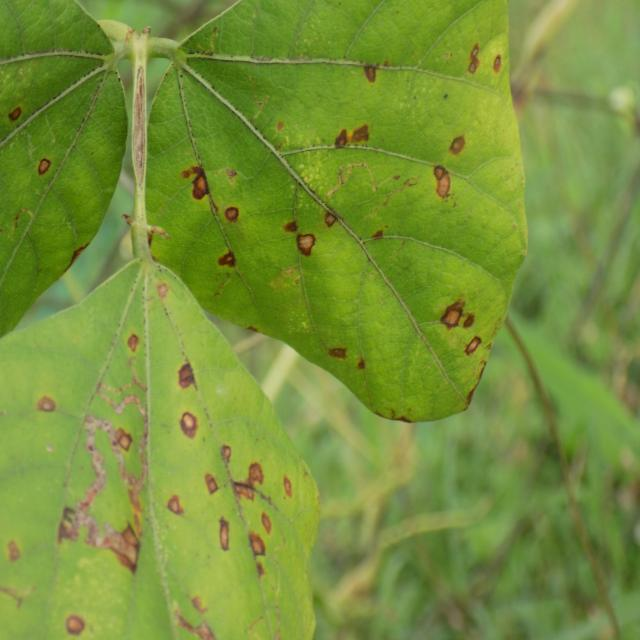Dolicos bean_cercospora leaf spot: (144, 0, 530, 425), (0, 255, 322, 640)
